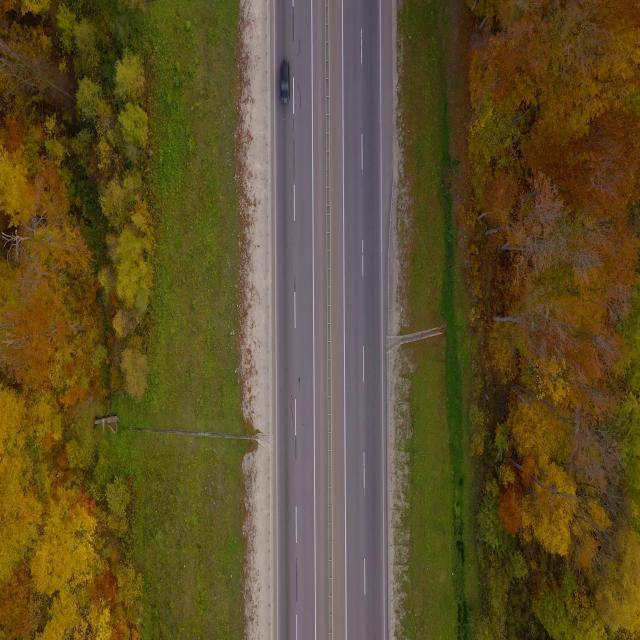vehicle: (280, 60, 290, 103)
